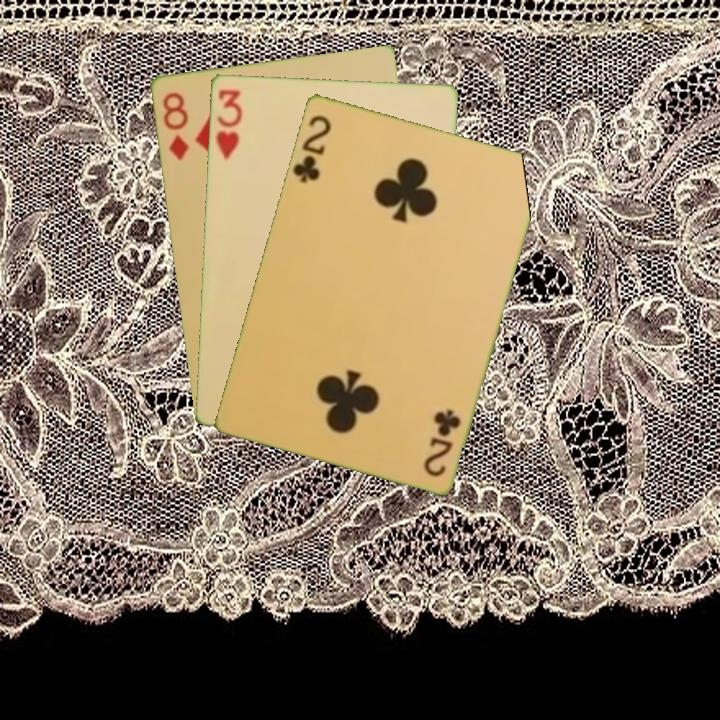2c: (289, 110, 334, 186), (419, 405, 464, 479)
3h: (212, 85, 245, 162)
8d: (158, 88, 192, 163)
